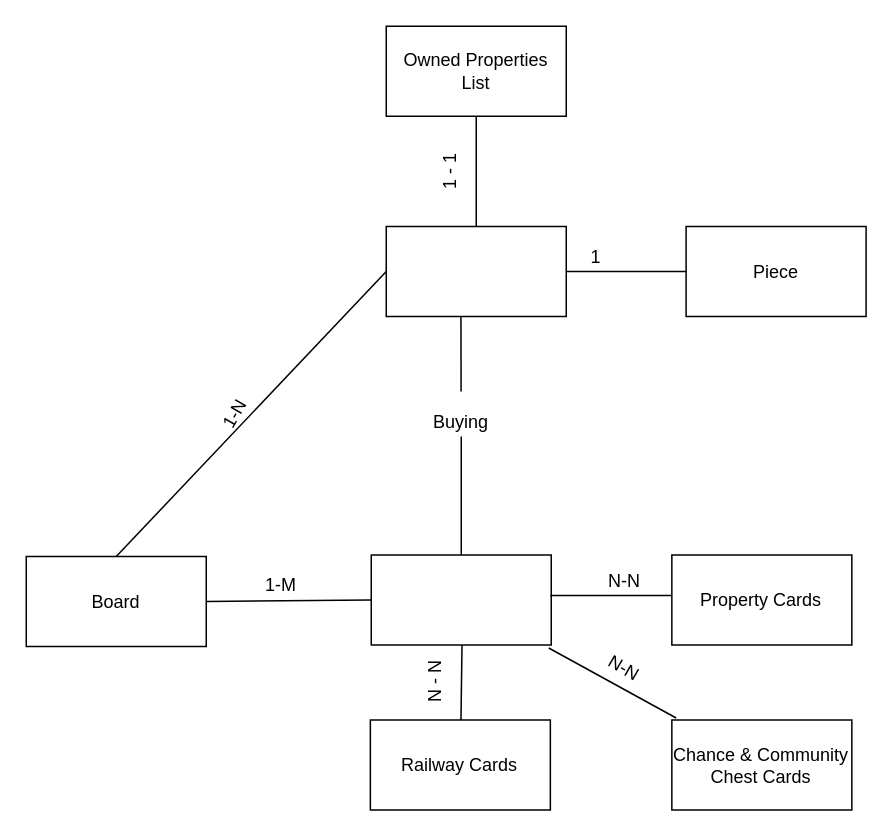
Image size: 893x837. Some labels were removed from this diagram. Each missing label, with the centre of its shape:
Player: [475,270]
Properties: [460,599]
